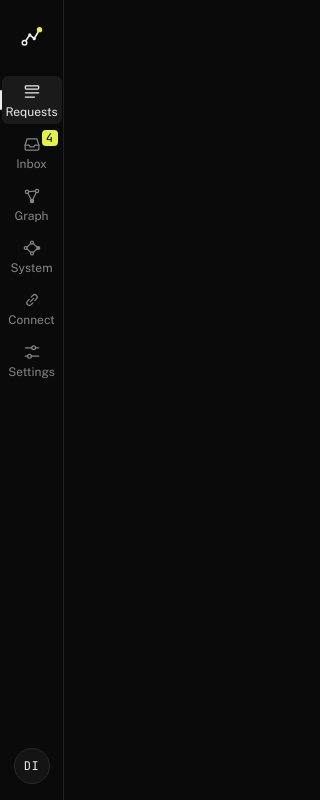
Test case: C-AC-10 rail › the account menu shows who is signed in, and Escape closes it from inside the menu
Click the button named "Account:" at x=32, y=766, box [14,748,50,784]
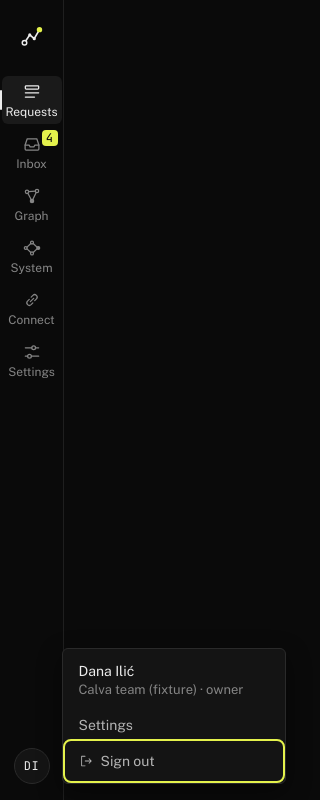
Press Escape
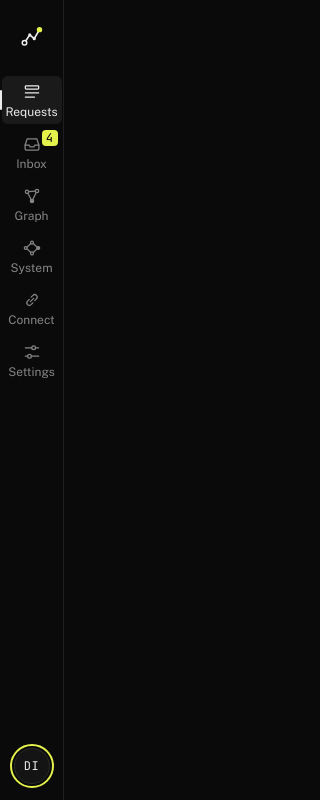
Check: the menu is gone
